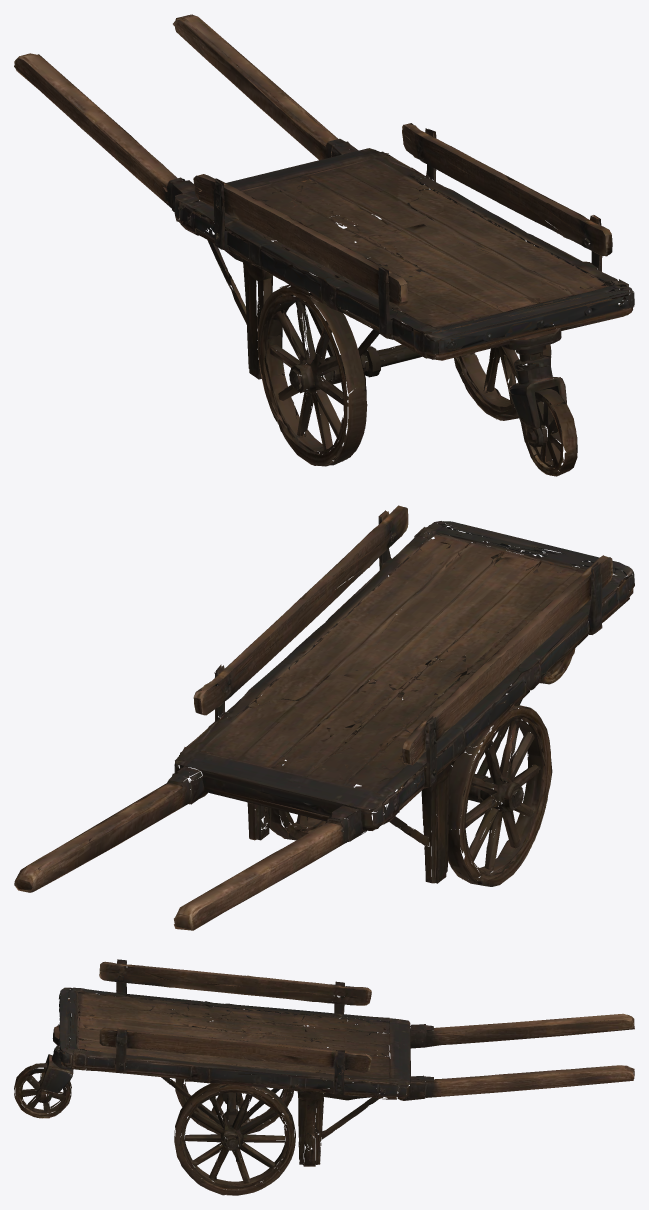
Rendered from ch03_porter_handcart.glb.
The picture shows the model from 3 angles, top to bottom: view 1: azimuth 30°, elevation 25°; view 2: azimuth 150°, elevation 25°; view 3: azimuth 270°, elevation 25°; orthographic projection. The views are drawn at different scales.
Visible parts, largest first — view 1: material; view 2: material; view 3: material.
Part boxes in pixels (x1,y1,x2,y2): material: (14,14,634,476); material: (14,505,634,930); material: (14,959,634,1195).
Bounding box in the file's own units: 0.3241 × 0.3513 × 1.17.
1 material, 1 textured.
